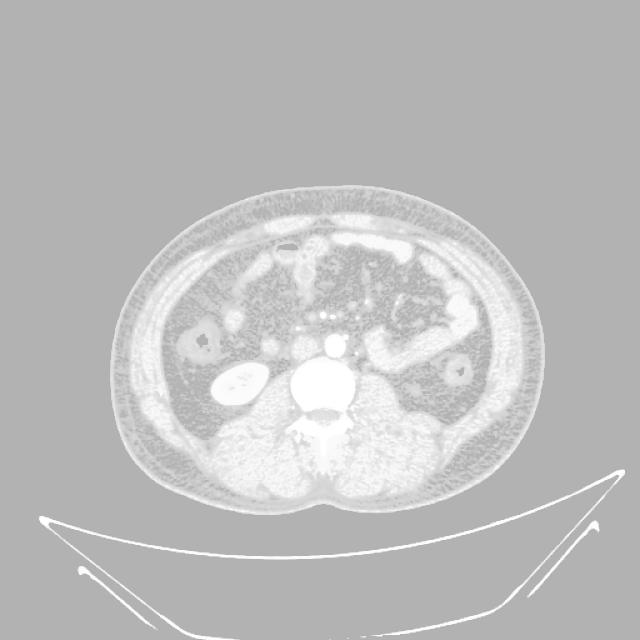NORMAL: (111, 186, 542, 503)
